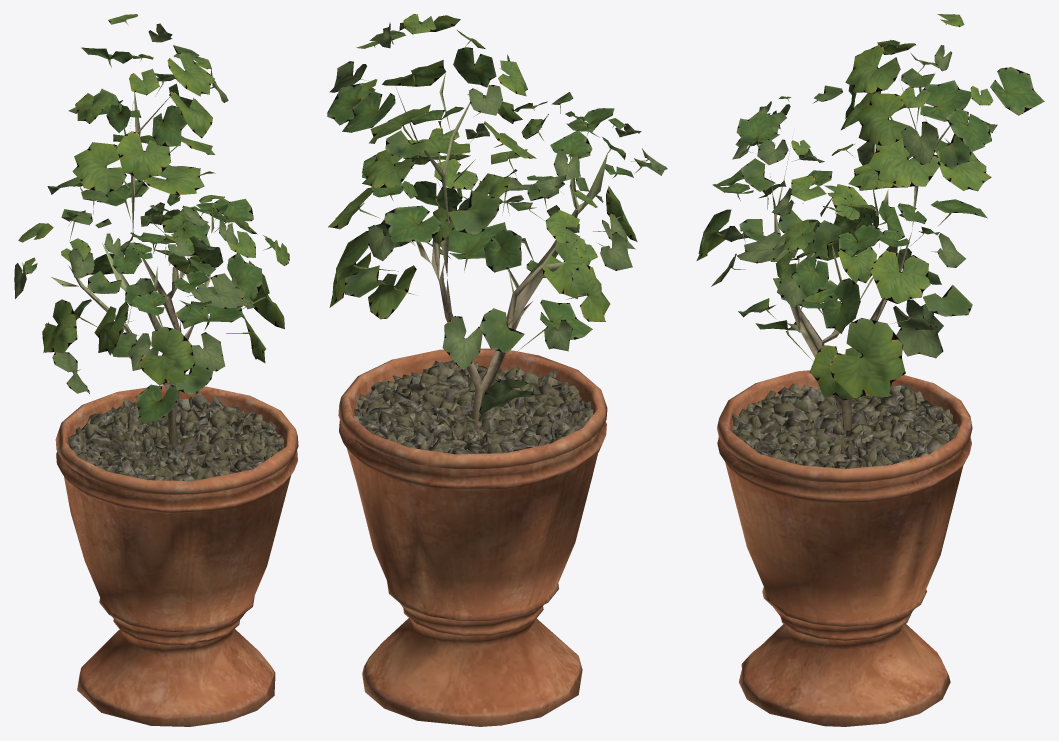
Rendered from potted_plant_01.glb.
3 renders of one model, left to right at view 1: azimuth 30°, elevation 25°; view 2: azimuth 150°, elevation 25°; view 3: azimuth 270°, elevation 25°, orthographic. The views are drawn at different scales.
Parts seen in each view (by area): view 1: potted_plant_01_pot, potted_plant_01_leaves, potted_plant_01_pebbles, potted_plant_01_stem; view 2: potted_plant_01_pot, potted_plant_01_leaves, potted_plant_01_pebbles, potted_plant_01_stem; view 3: potted_plant_01_pot, potted_plant_01_leaves, potted_plant_01_pebbles, potted_plant_01_stem.
Boxes of the visible parts, bbox=[...] form: potted_plant_01_pot: bbox=[55, 385, 298, 726]; potted_plant_01_leaves: bbox=[14, 14, 289, 424]; potted_plant_01_pebbles: bbox=[68, 393, 283, 481]; potted_plant_01_stem: bbox=[51, 92, 210, 444]; potted_plant_01_pot: bbox=[338, 348, 607, 726]; potted_plant_01_leaves: bbox=[327, 14, 667, 414]; potted_plant_01_pebbles: bbox=[354, 360, 593, 464]; potted_plant_01_stem: bbox=[395, 72, 607, 420]; potted_plant_01_pot: bbox=[717, 370, 972, 726]; potted_plant_01_leaves: bbox=[696, 14, 1044, 400]; potted_plant_01_pebbles: bbox=[732, 383, 958, 470]; potted_plant_01_stem: bbox=[770, 87, 962, 434].
Size of the model in its own units: 0.5866 by 1.33 by 0.6336.
Materials: 2 (2 with a texture image).
